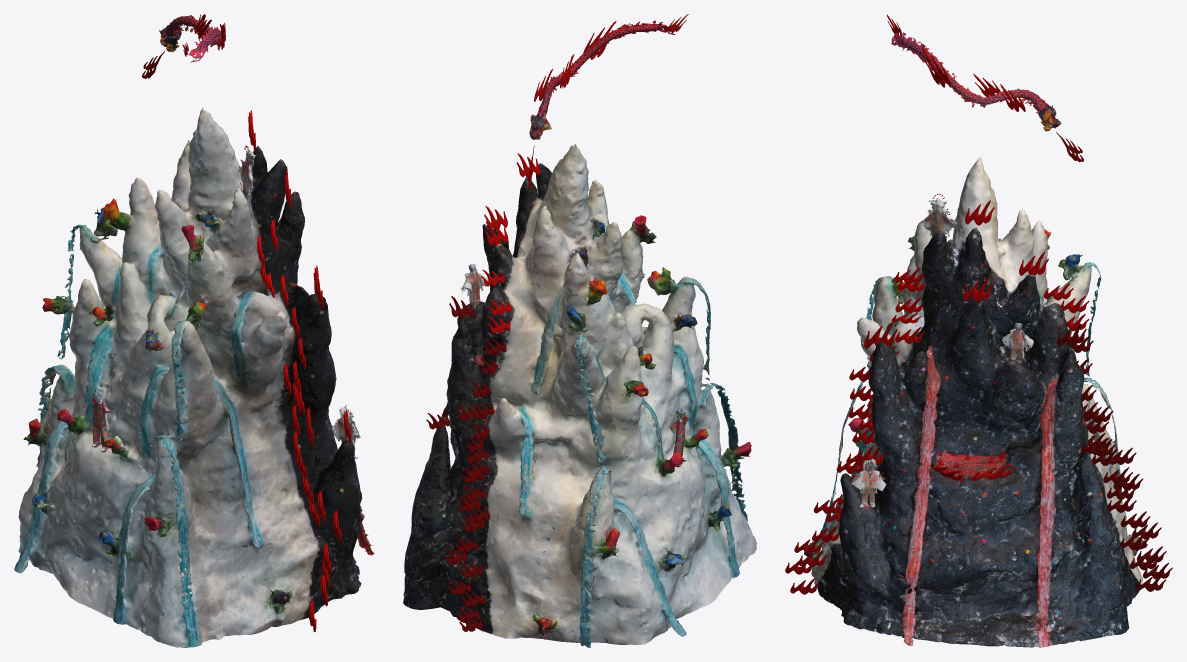
The model's file is shan.gltf.
The picture shows the model from 3 angles, left to right: view 1: azimuth 30°, elevation 25°; view 2: azimuth 150°, elevation 25°; view 3: azimuth 270°, elevation 25°; orthographic projection. The views are drawn at different scales.
Parts seen in each view (by area): view 1: SHAN001, dragon_Retopo, nvwa_Retopo, monster001, GUANYIN_Retopo; view 2: SHAN001, dragon_Retopo, nanwa_Retopo, nvwa_Retopo; view 3: SHAN001, dragon_Retopo, monster001, GUANYIN_Retopo, nanwa_Retopo.
Part boxes in pixels (left/top/right/bottom): SHAN001: left=14, top=108, right=374, bottom=647; dragon_Retopo: left=159, top=15, right=221, bottom=62; nvwa_Retopo: left=91, top=390, right=112, bottom=452; monster001: left=330, top=405, right=360, bottom=458; GUANYIN_Retopo: left=239, top=148, right=255, bottom=207; SHAN001: left=403, top=143, right=756, bottom=647; dragon_Retopo: left=529, top=20, right=675, bottom=139; nanwa_Retopo: left=461, top=264, right=488, bottom=308; nvwa_Retopo: left=669, top=407, right=688, bottom=467; SHAN001: left=804, top=157, right=1147, bottom=647; dragon_Retopo: left=891, top=31, right=1061, bottom=131; monster001: left=851, top=458, right=886, bottom=508; GUANYIN_Retopo: left=922, top=198, right=957, bottom=236; nanwa_Retopo: left=1002, top=323, right=1033, bottom=363.
Bounding box in the file's own units: 0.1292 × 0.2463 × 0.1598.
23 materials, 7 textured.
